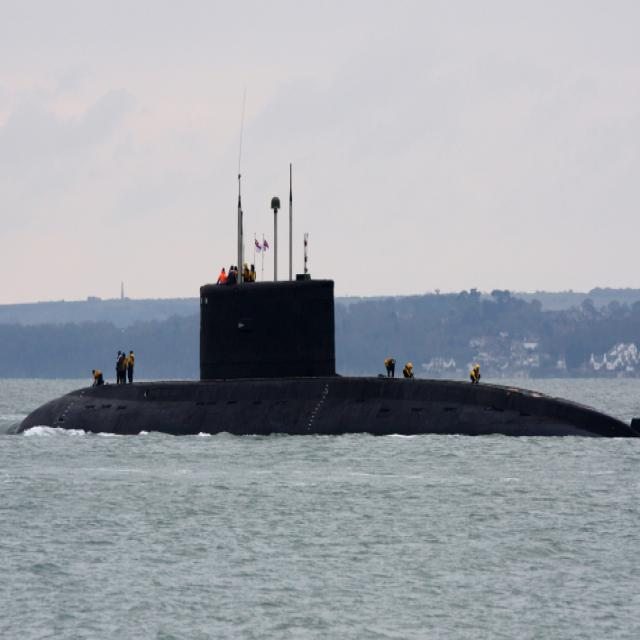submarine: (1, 278, 640, 437)
